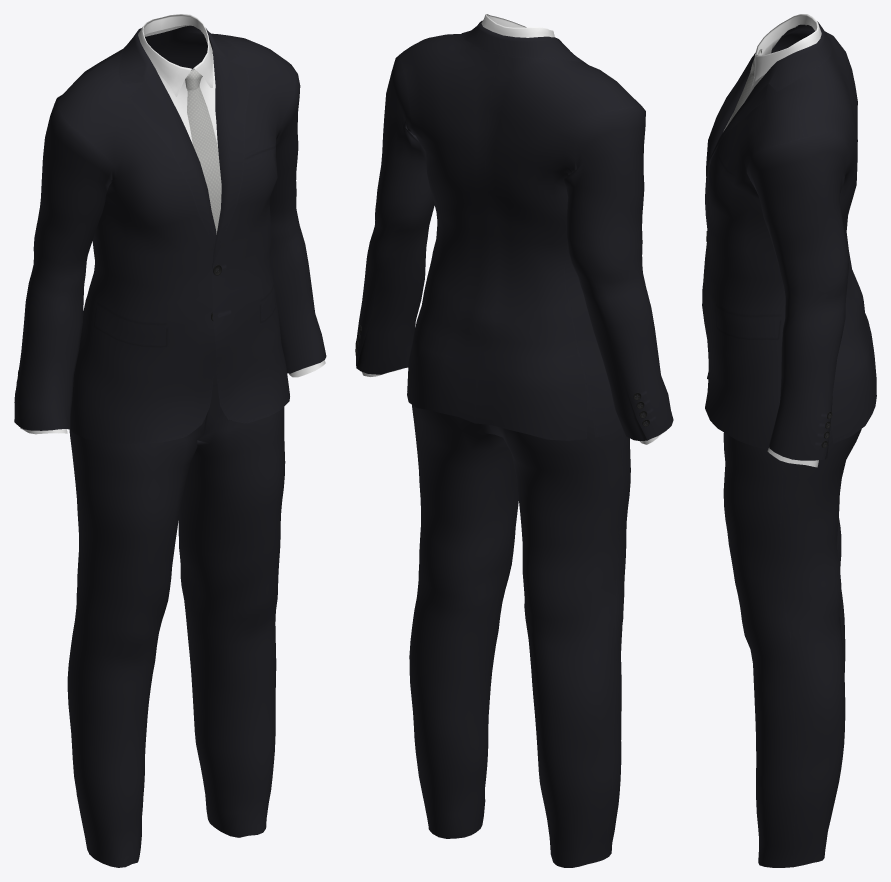
Rendered from dress.glb.
3 renders of one model, left to right at view 1: azimuth 30°, elevation 25°; view 2: azimuth 150°, elevation 25°; view 3: azimuth 270°, elevation 25°, orthographic. The views are drawn at different scales.
Parts seen in each view (by area): view 1: m_suit_01Mesh; view 2: m_suit_01Mesh; view 3: m_suit_01Mesh.
Boxes of the visible parts, box(x1,y1,x2,y2) form: m_suit_01Mesh: box(14, 14, 326, 867); m_suit_01Mesh: box(355, 14, 673, 867); m_suit_01Mesh: box(702, 14, 876, 867).
Bounding box in the file's own units: 0.5387 × 1.4 × 0.2739.
Materials: 1 (1 with a texture image).
